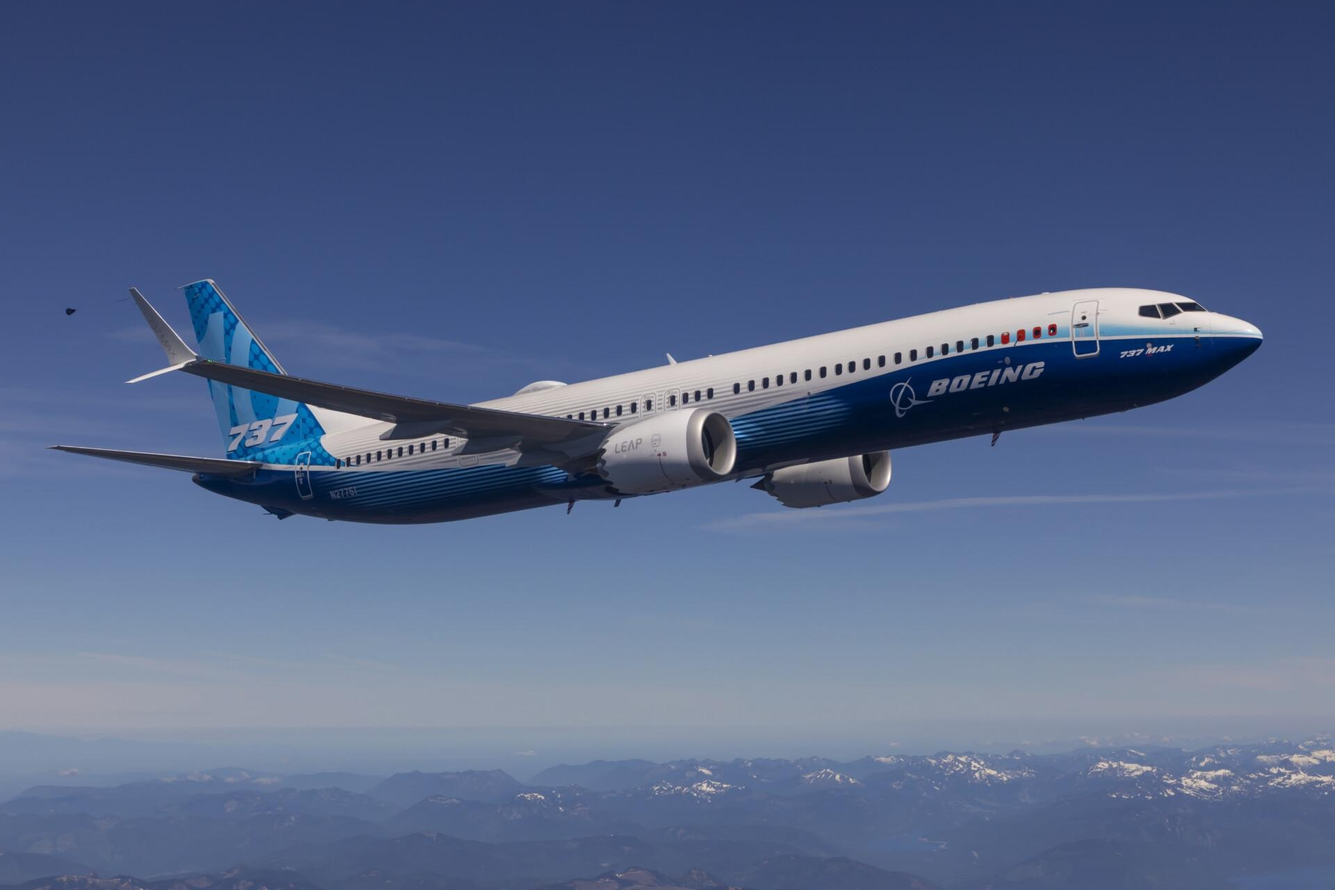aircraft: (90, 275, 1262, 525)
